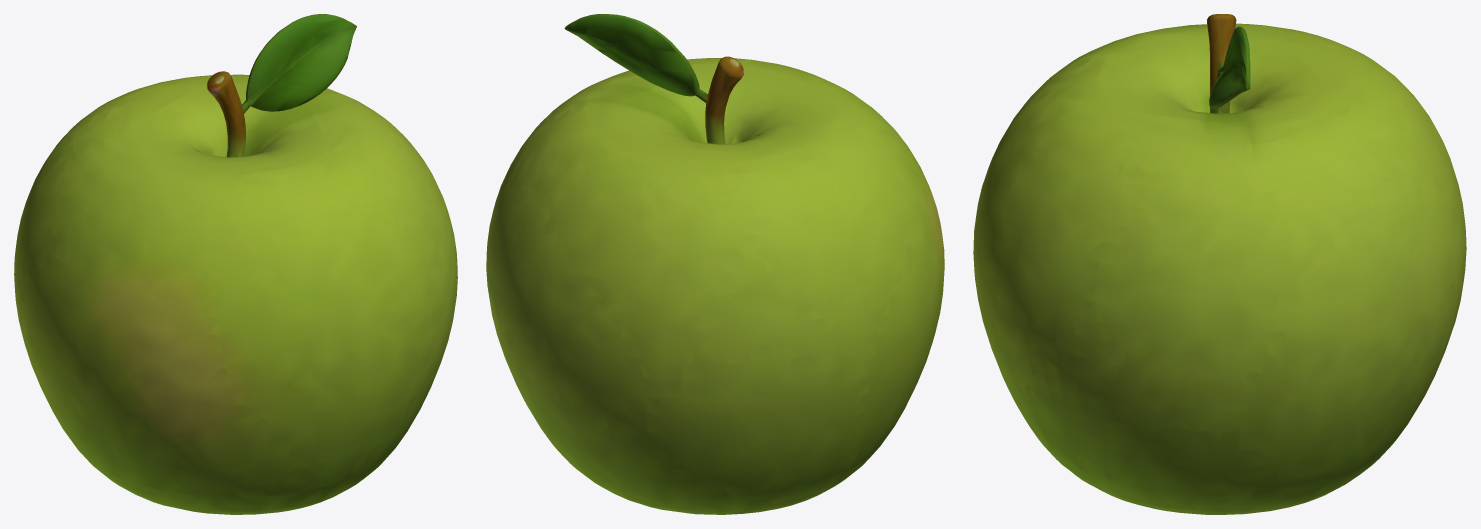
Rendered from green-apple.glb.
The picture shows the model from 3 angles, left to right: view 1: azimuth 30°, elevation 25°; view 2: azimuth 150°, elevation 25°; view 3: azimuth 270°, elevation 25°; orthographic projection. The views are drawn at different scales.
Parts seen in each view (by area): view 1: material; view 2: material; view 3: material.
Boxes of the visible parts, x1,y1,x2,y2 form: material: (14, 14, 457, 514); material: (486, 14, 944, 514); material: (973, 14, 1466, 514).
Bounding box in the file's own units: 1.02 × 1.06 × 1.01.
1 material, 1 textured.
